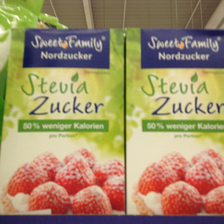tomato_sauce: (1, 28, 126, 214), (123, 27, 224, 216)
